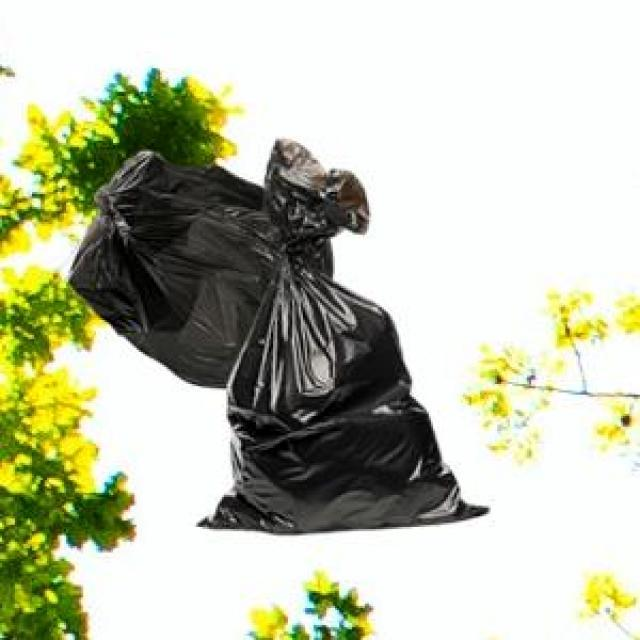Garbage_Bag: (195, 135, 486, 530), (65, 148, 330, 385)
